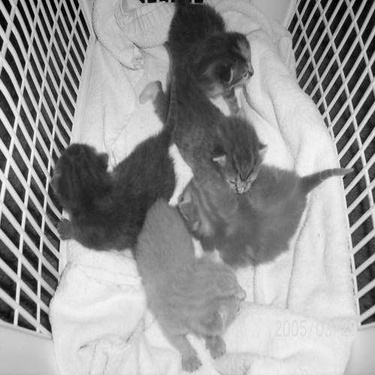cat: (136, 198, 249, 371), (182, 167, 354, 267), (139, 79, 269, 192), (55, 129, 172, 254), (164, 1, 253, 114)
